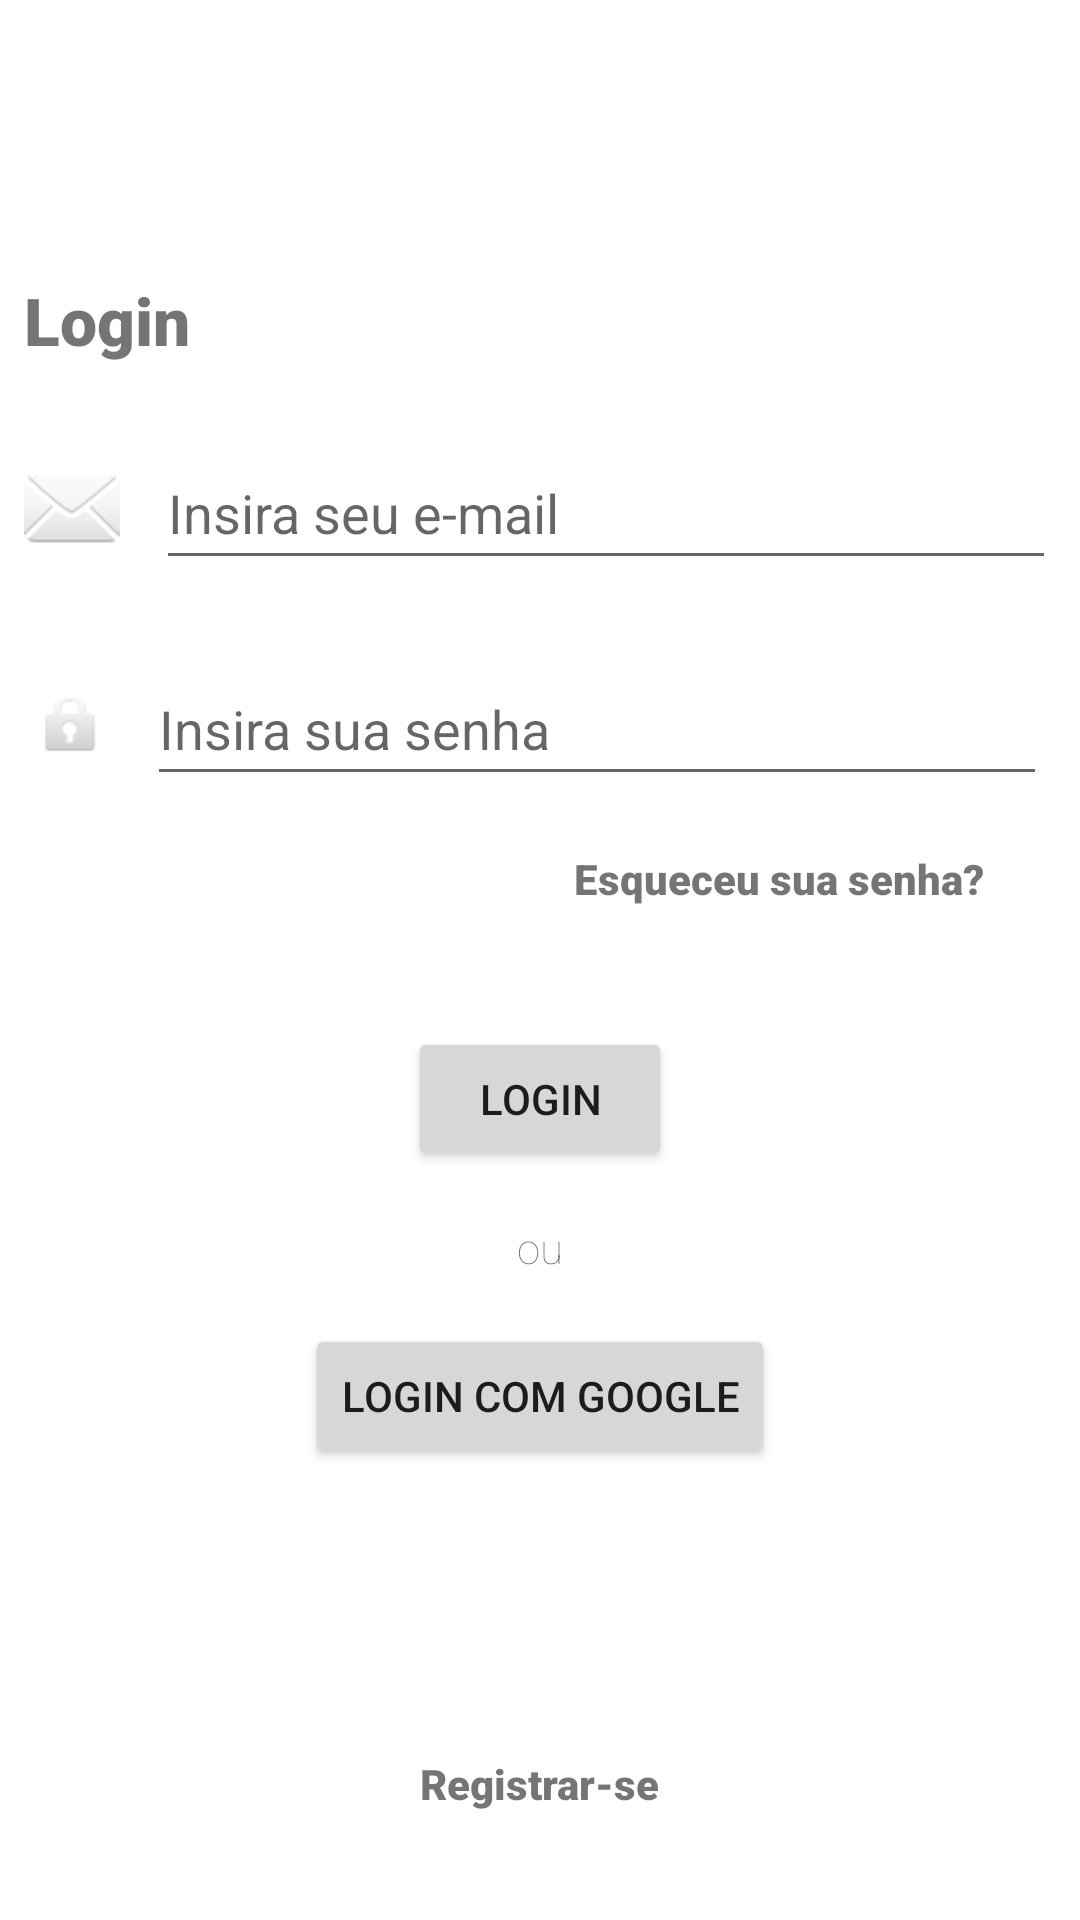

Where icons sit on this 1080×1920 app screen, as {"left": x1, "top": y1, "right": x2, "bottom": y2}:
icone de email: {"left": 24, "top": 477, "right": 120, "bottom": 543}
